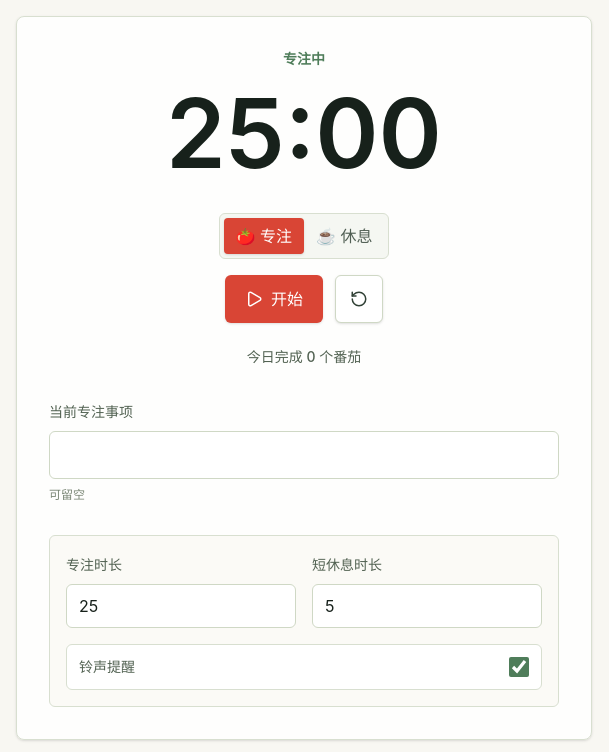
Test case: App › allows optional focus text and duration settings
The image size is (609, 752).
In the field labelled "当前专注事项": (304, 455) [49,431,559,479], type "整理需求"
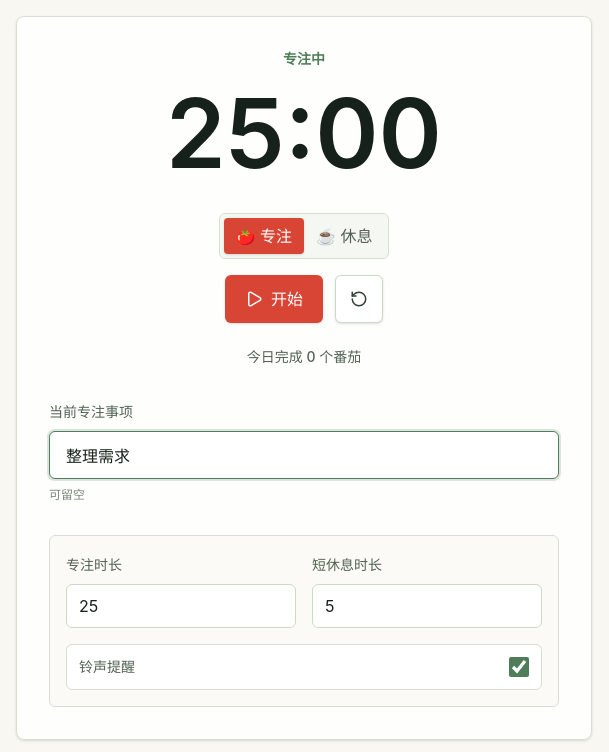
Replace the text in the number field labelled "专注时长" with "30": (181, 606) [66,584,296,628]
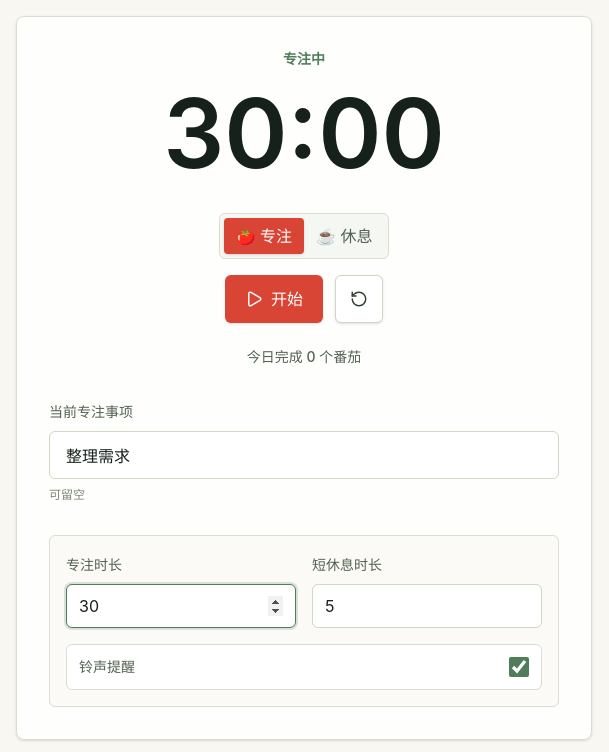
Now the heading "30:00" is shown, box [163,75,445,191]
